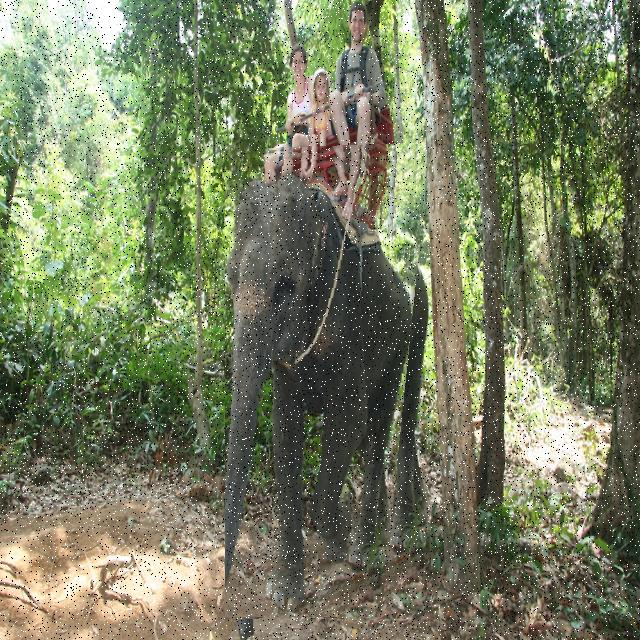elephant: (225, 145, 428, 617)
